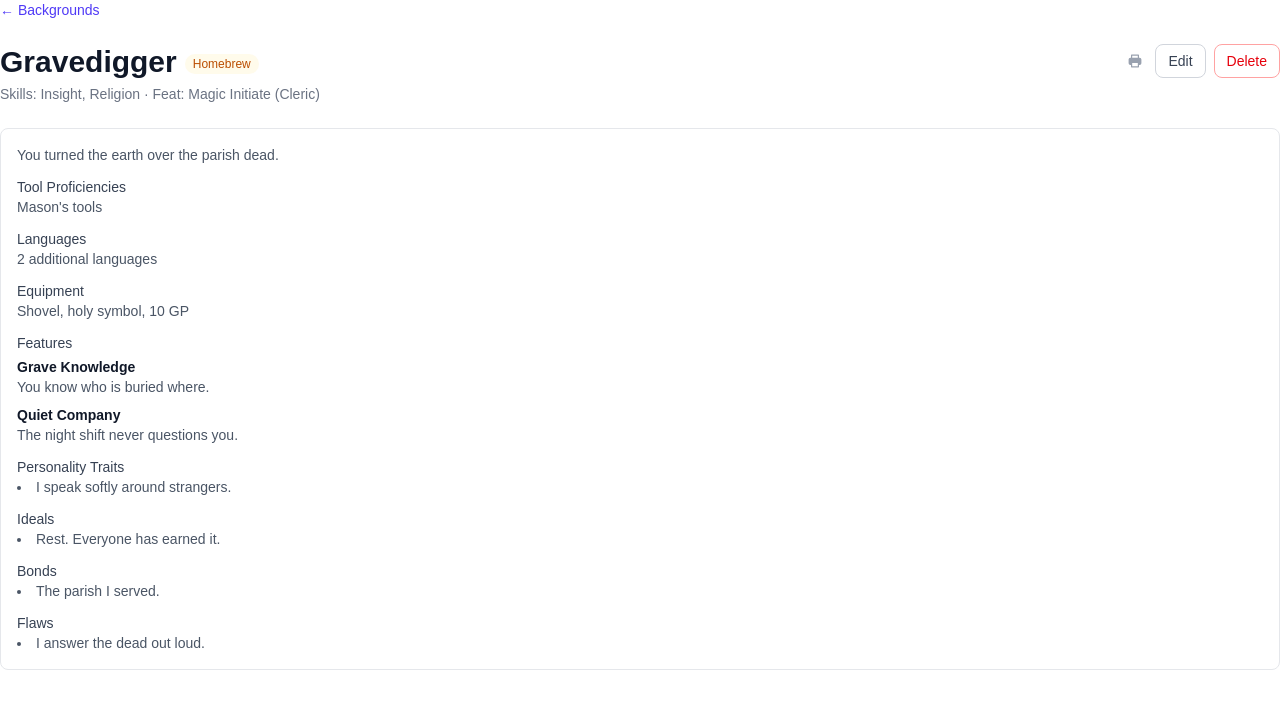
it: BackgroundDetailPage › manage controls › deletes after confirmation, stops reading the background, and leaves before refreshing the list
Click the button "Delete". click: x=1247, y=61
box: [1214,44,1279,78]
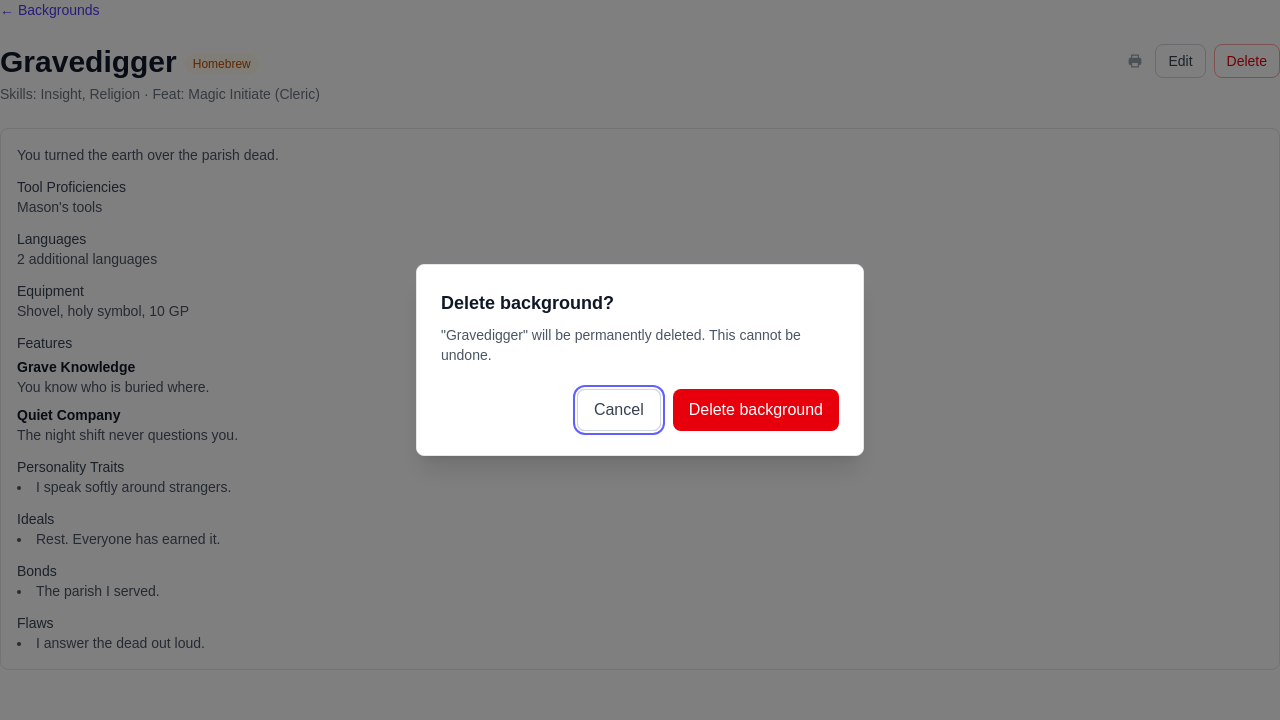
Check: the heading "Delete background?" is shown, box [441,293,614,313]
Check: the text "\"Gravedigger\" will be permanently deleted. This cannot be undone." is shown, box [441,325,839,365]
Click the button "Delete background". click: x=756, y=410
box: [673,389,839,431]
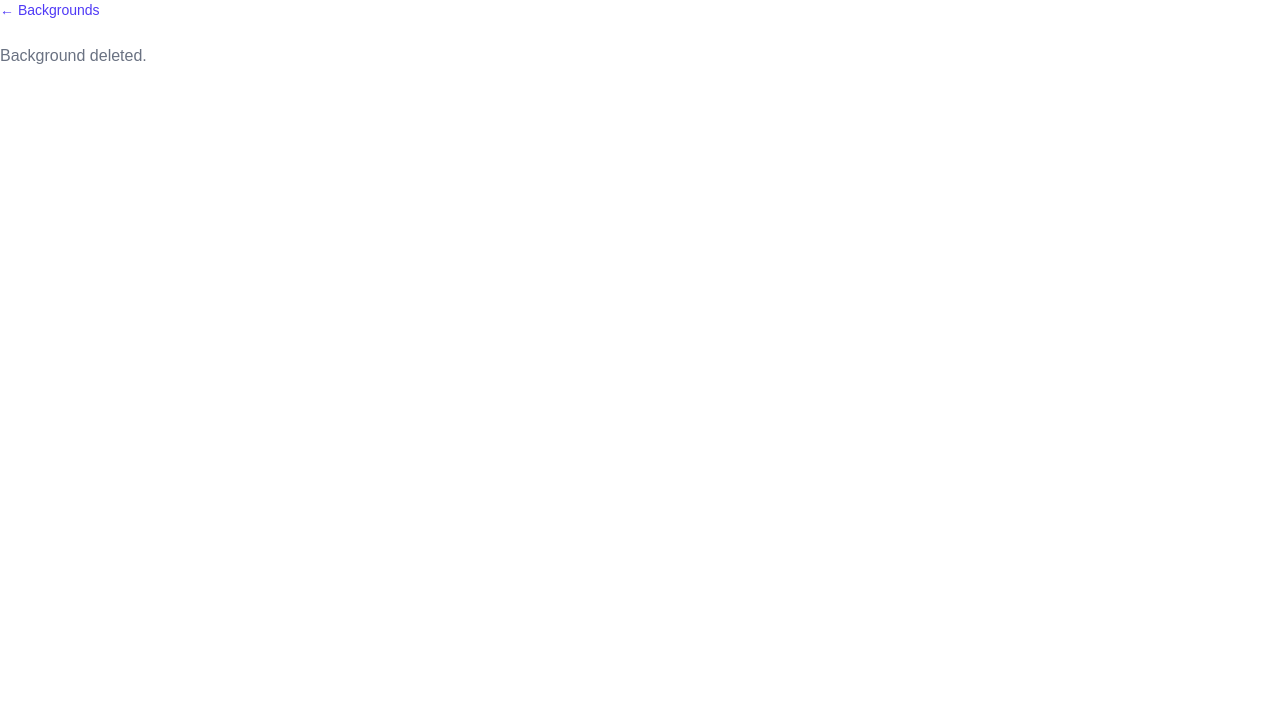
Check: the text "Background deleted." is shown, box [0,47,147,64]
Check: the heading "Gravedigger Homebrew" is gone
